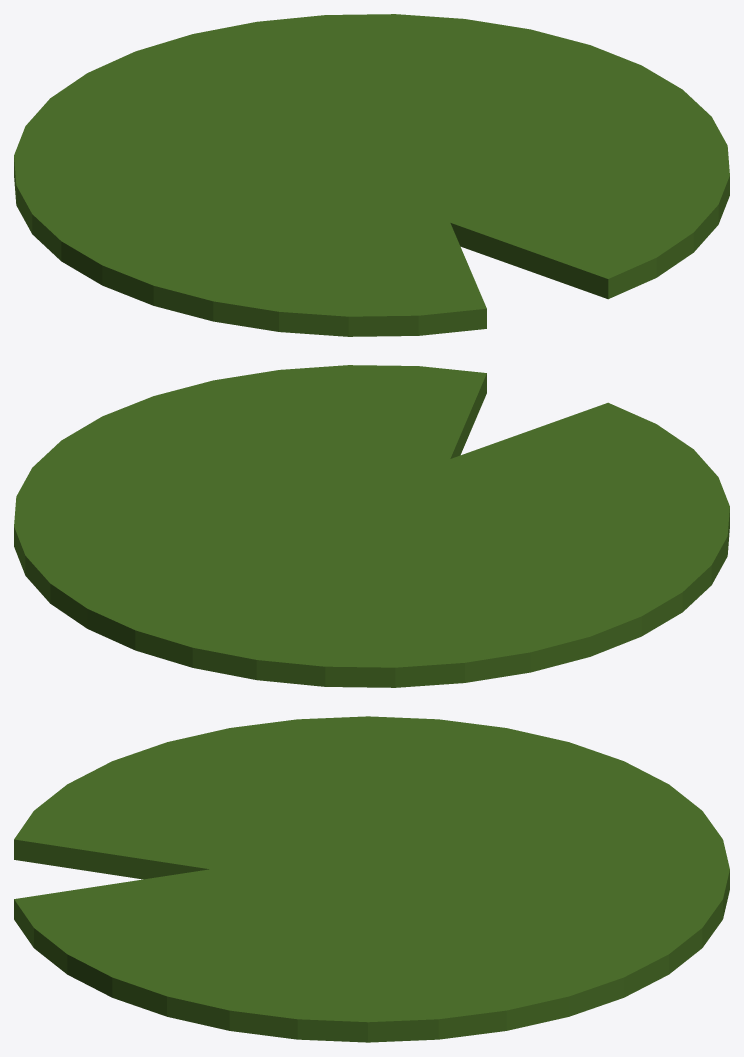
Rendered from lilipadTrampoloine 1.fbx.
3 renders of one model, top to bottom at view 1: azimuth 30°, elevation 25°; view 2: azimuth 150°, elevation 25°; view 3: azimuth 270°, elevation 25°, orthographic.
Visible parts, largest first — view 1: Circle; view 2: Circle; view 3: Circle.
Part boxes in pixels (x1=…): Circle: x1=14, y1=14, x2=729, y2=336; Circle: x1=14, y1=365, x2=729, y2=687; Circle: x1=14, y1=716, x2=729, y2=1042.
Size of the model in its own units: 909 by 28.23 by 899.
